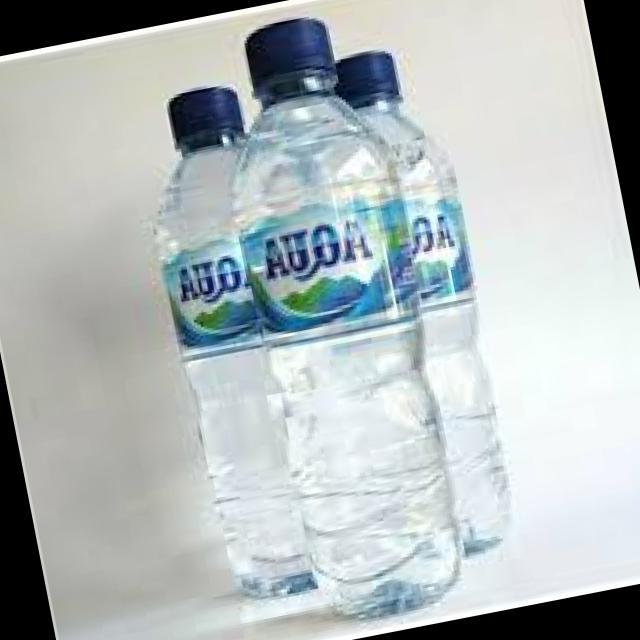good: (176, 0, 488, 640), (118, 65, 336, 640), (317, 24, 538, 568)
